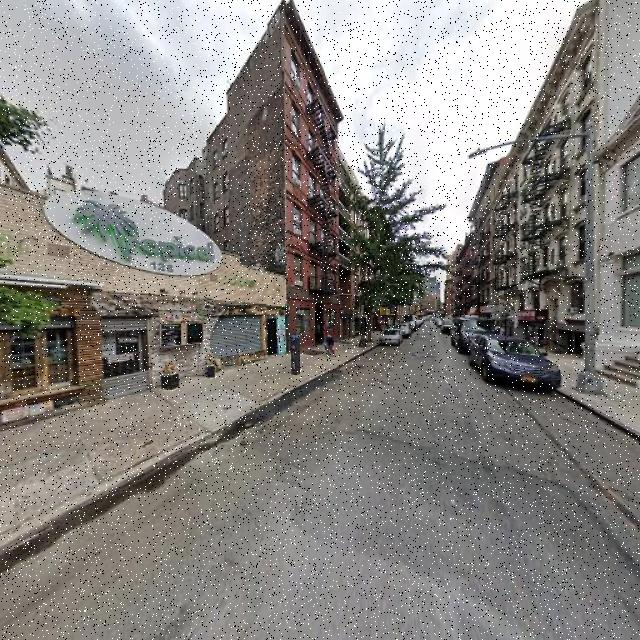Building: (1, 192, 284, 432), (287, 5, 337, 355), (607, 122, 640, 374)
